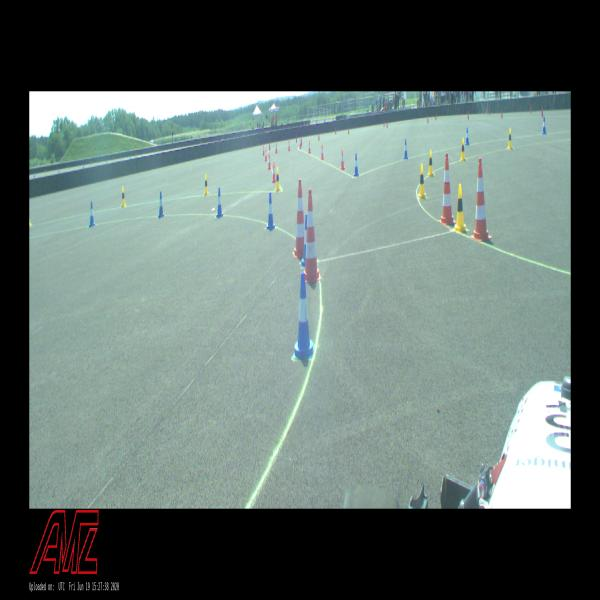blue_cone: (292, 273, 314, 358), (301, 215, 308, 266), (267, 193, 275, 230), (216, 187, 223, 218), (88, 202, 95, 228), (158, 192, 164, 218), (403, 140, 408, 159), (354, 153, 358, 176), (465, 127, 469, 146), (542, 116, 546, 134)
large_orange_cone: (470, 158, 492, 240), (305, 190, 321, 283), (438, 153, 456, 225), (292, 180, 304, 257)
orange_cone: (340, 150, 345, 170), (272, 162, 276, 182), (320, 143, 324, 160), (268, 154, 271, 169), (308, 141, 311, 154), (275, 142, 278, 154), (299, 138, 302, 150), (265, 148, 267, 161), (288, 139, 290, 151), (262, 145, 264, 155)
yellow_cone: (454, 184, 468, 233), (418, 164, 426, 198), (427, 150, 434, 177), (460, 138, 466, 161), (507, 128, 513, 149), (276, 167, 281, 191), (204, 174, 209, 196), (121, 186, 125, 208)
